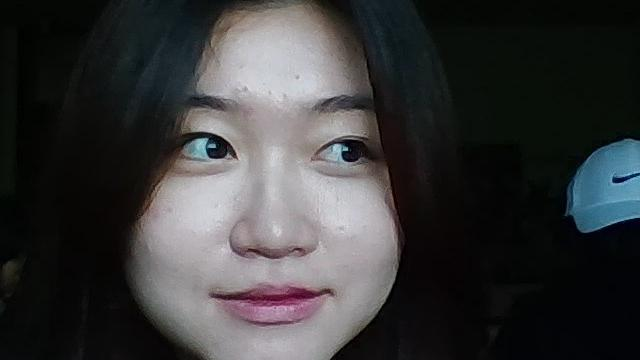eye: (205, 136, 230, 159), (340, 140, 364, 161)
iris: (173, 133, 239, 160), (313, 138, 378, 165)
